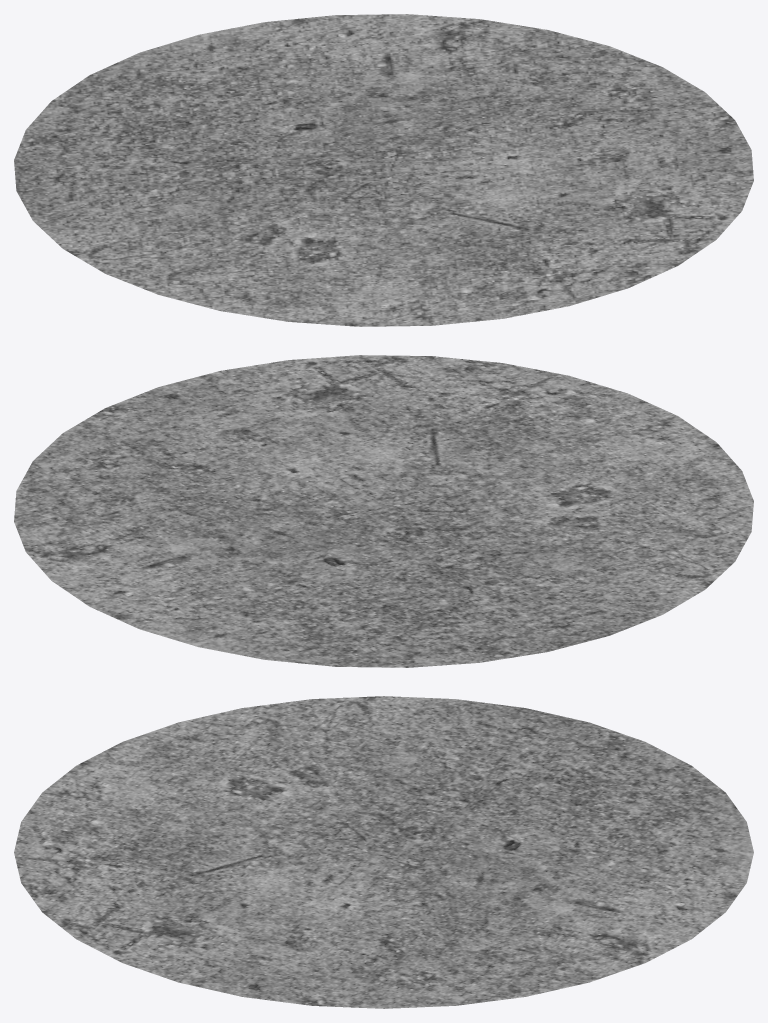
Rendered from island.obj.
3 renders of one model, top to bottom at view 1: azimuth 30°, elevation 25°; view 2: azimuth 150°, elevation 25°; view 3: azimuth 270°, elevation 25°, orthographic.
Parts seen in each view (by area): view 1: Cône; view 2: Cône; view 3: Cône.
Part boxes in pixels (x1,y1,x2,y2): Cône: (14, 14, 753, 326); Cône: (14, 355, 753, 667); Cône: (14, 696, 753, 1008).
Size of the model in its own units: 11.67 by 2.61 by 11.67.
